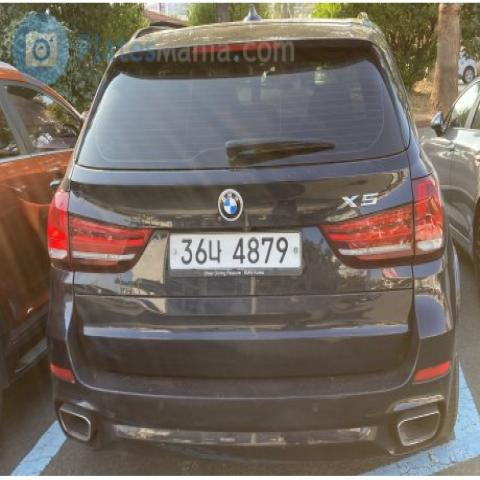LP: (160, 217, 308, 285)
